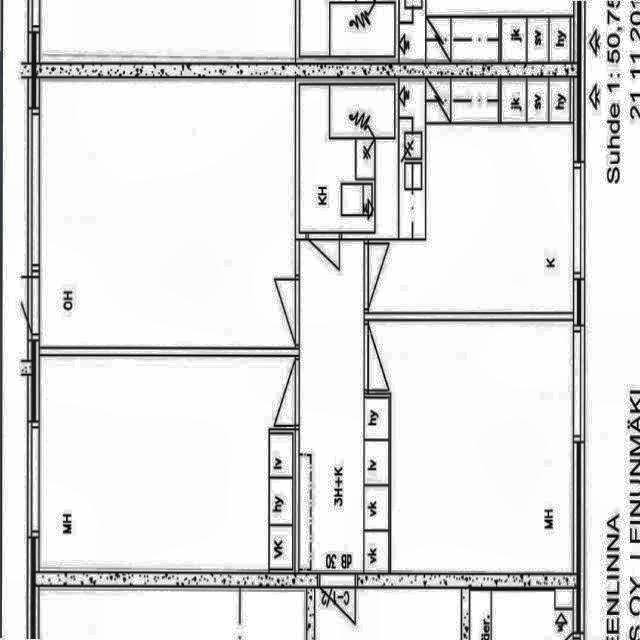room: (40, 79, 294, 346), (300, 80, 573, 311), (40, 357, 294, 571)
